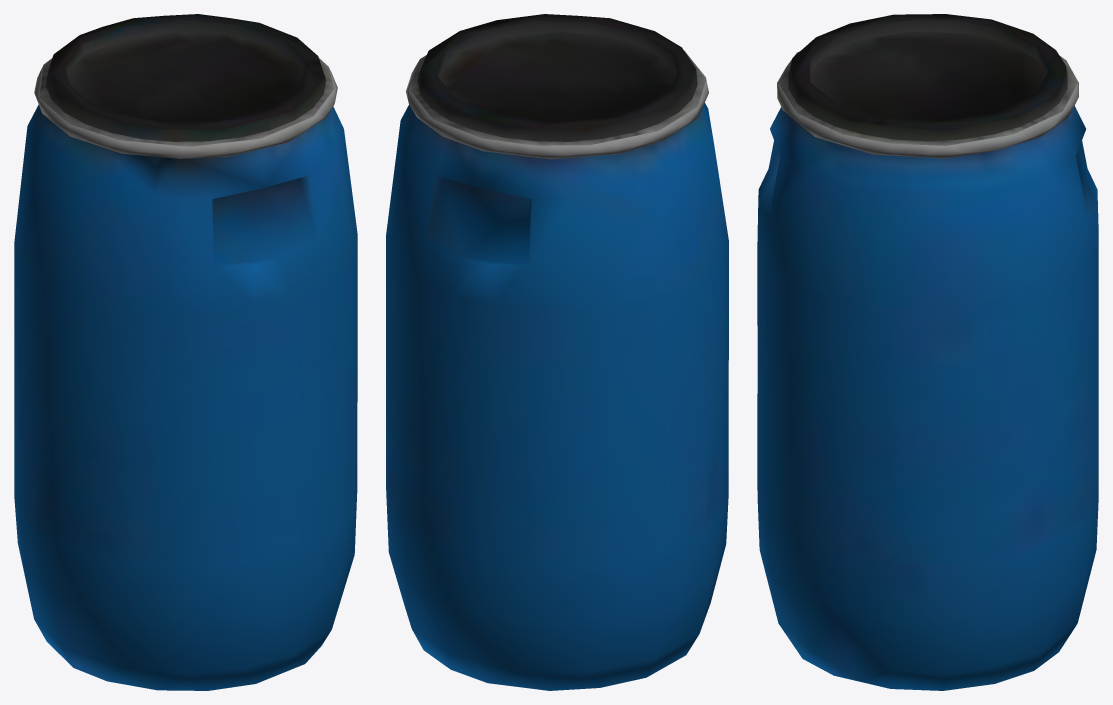
Rendered from drum_plastic_blue_lod1.glb.
3 renders of one model, left to right at view 1: azimuth 30°, elevation 25°; view 2: azimuth 150°, elevation 25°; view 3: azimuth 270°, elevation 25°, orthographic.
Parts seen in each view (by area): view 1: drum_plastic_blue.001; view 2: drum_plastic_blue.001; view 3: drum_plastic_blue.001.
Boxes of the visible parts, x1,y1,x2,y2 form: drum_plastic_blue.001: [14, 14, 357, 690]; drum_plastic_blue.001: [386, 14, 728, 690]; drum_plastic_blue.001: [757, 14, 1098, 690].
Bounding box in the file's own units: 0.4866 × 0.8789 × 0.483.
Materials: 1 (1 with a texture image).
